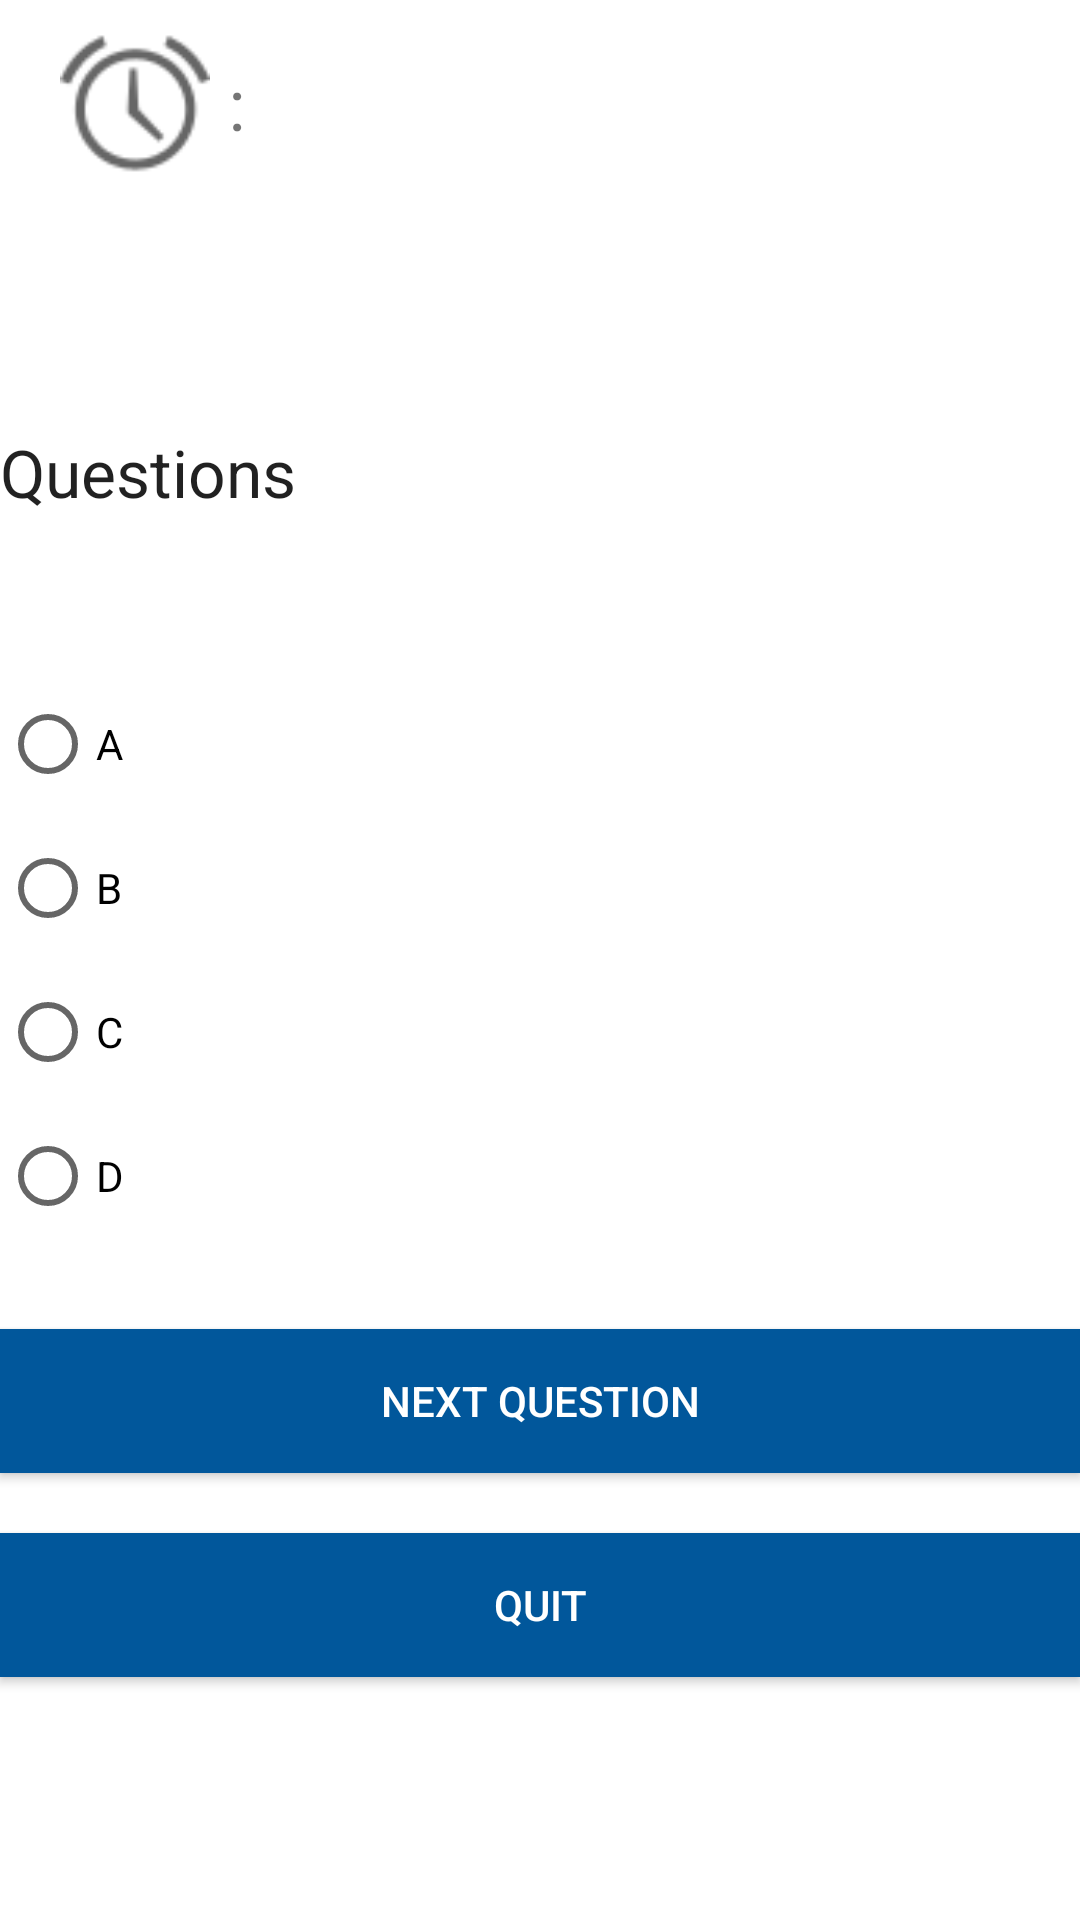

Named icons in this screenshot (1080×1920) and their centers, point (x, y):
lock idle alarm: point (135, 103)
